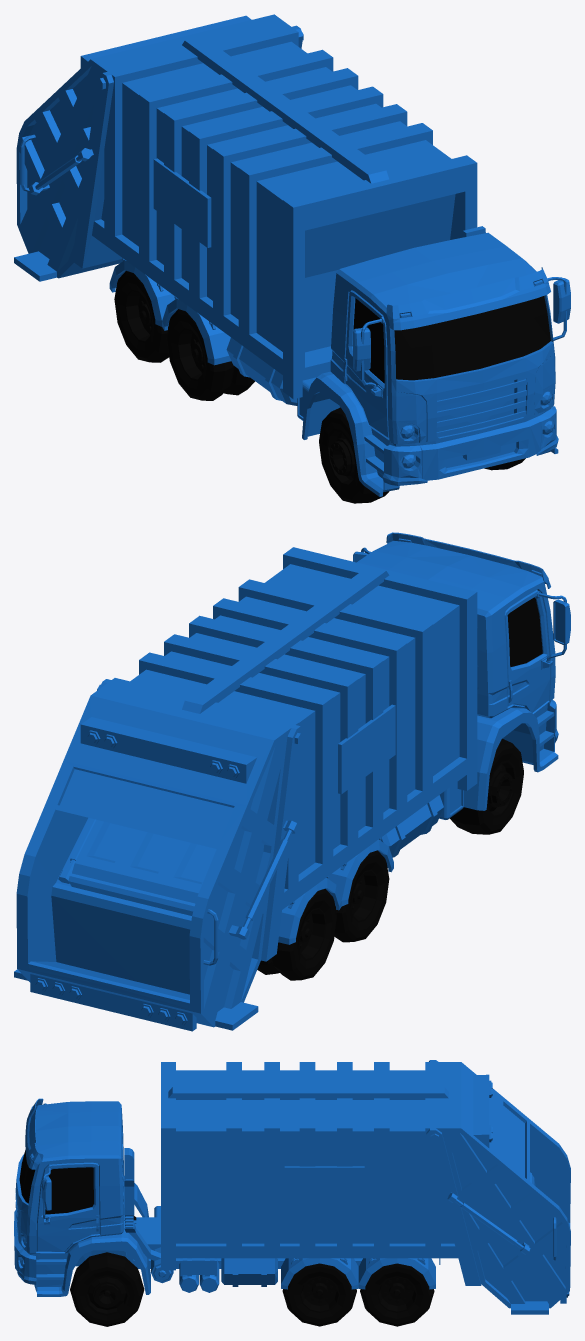
Rendered from HALF_garbage_truck.fbx.
3 views of the same model, one above another, from view 1: azimuth 30°, elevation 25°; view 2: azimuth 150°, elevation 25°; view 3: azimuth 270°, elevation 25° (orthographic). The views are drawn at different scales.
Parts seen in each view (by area): view 1: Symmetry_13, Oil_Tank_3, Oil_Tank_4, Oil_Tank_2; view 2: Symmetry_13, Oil_Tank_4, Oil_Tank_2, Oil_Tank_3; view 3: Symmetry_13, Oil_Tank_1, Oil_Tank_4, Oil_Tank_3.
Boxes of the visible parts, bbox=[...] form: Symmetry_13: bbox=[14, 14, 570, 496]; Oil_Tank_3: bbox=[166, 309, 254, 400]; Oil_Tank_4: bbox=[114, 271, 169, 362]; Oil_Tank_2: bbox=[319, 407, 389, 503]; Symmetry_13: bbox=[14, 532, 570, 1031]; Oil_Tank_4: bbox=[257, 888, 336, 980]; Oil_Tank_2: bbox=[450, 738, 523, 834]; Oil_Tank_3: bbox=[334, 850, 389, 942]; Symmetry_13: bbox=[14, 1060, 570, 1314]; Oil_Tank_1: bbox=[70, 1252, 144, 1326]; Oil_Tank_4: bbox=[360, 1263, 434, 1326]; Oil_Tank_3: bbox=[282, 1263, 356, 1326].
Bounding box in the file's own units: 299 × 365 × 890.
